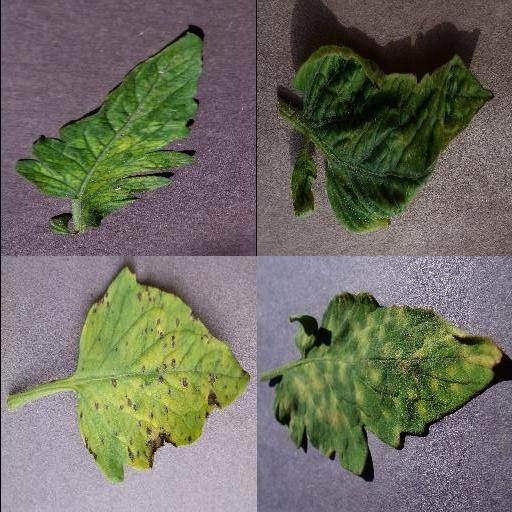Leaf Mold: (271, 292, 505, 476)
Mosaic Virus: (12, 30, 204, 206)
Septoria: (76, 264, 250, 482)
Yellow Leaf Curl Virus: (292, 46, 492, 232)
